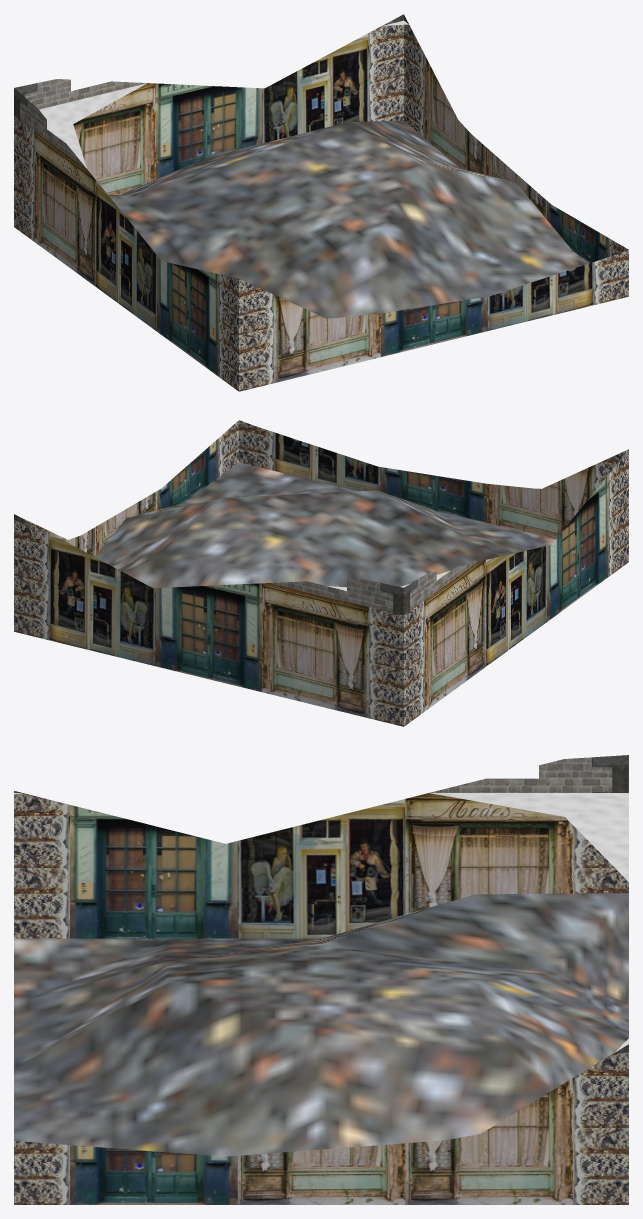
The model's file is House_007_destroyed_005.dae.
The picture shows the model from 3 angles, top to bottom: view 1: azimuth 30°, elevation 25°; view 2: azimuth 150°, elevation 25°; view 3: azimuth 270°, elevation 25°; orthographic projection. The views are drawn at different scales.
Visible parts, largest first — view 1: House_007; view 2: House_007; view 3: House_007.
Boxes of the visible parts, x1,y1,x2,y2 form: House_007: [14, 14, 628, 391]; House_007: [14, 420, 628, 726]; House_007: [14, 755, 628, 1204].
Size of the model in its own units: 88 by 88 by 30.
Materials: 1 (1 with a texture image).
